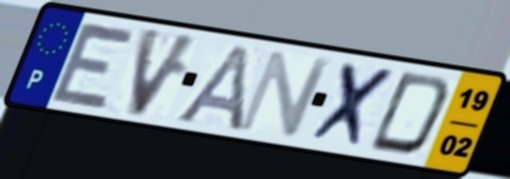A: (169, 41, 255, 134)
D: (363, 69, 455, 159)
E: (46, 18, 141, 113)
N: (233, 49, 336, 139)
V: (124, 24, 205, 121)
X: (305, 59, 402, 152)
